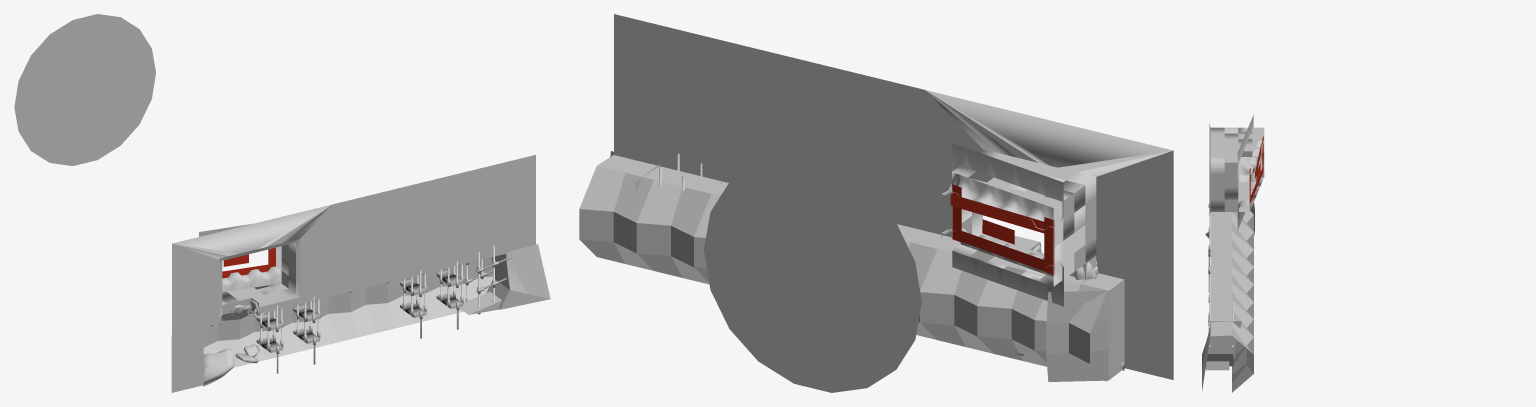
File: AO_MeshTest.FBX
3 views of the same model, side by side, from view 1: azimuth 30°, elevation 25°; view 2: azimuth 150°, elevation 25°; view 3: azimuth 270°, elevation 25° (orthographic). The views are drawn at different scales.
Visible parts, largest first — view 1: Plane01, Cylinder01, Object03, Box03, Object13, lowPoly05, Object01, rocks02, Plane04, Box02; view 2: Plane01, Cylinder01, Object03, Object13, lowPoly06, Plane04, lowPoly05; view 3: Object03, Plane01, Box03, lowPoly06, Plane04, lowPoly05.
Part boxes in pixels (x1=…): Plane01: x1=172, y1=155, x2=535, y2=335; Cylinder01: x1=14, y1=14, x2=155, y2=165; Object03: x1=203, y1=257, x2=492, y2=367; Box03: x1=486, y1=244, x2=550, y2=309; Object13: x1=171, y1=327, x2=203, y2=392; lowPoly05: x1=222, y1=266, x2=281, y2=292; Object01: x1=219, y1=239, x2=300, y2=316; rocks02: x1=203, y1=348, x2=234, y2=386; Plane04: x1=222, y1=247, x2=275, y2=278; Box02: x1=459, y1=291, x2=501, y2=314; Plane01: x1=614, y1=14, x2=1173, y2=291; Cylinder01: x1=704, y1=159, x2=921, y2=392; Object03: x1=579, y1=155, x2=1123, y2=381; Object13: x1=1046, y1=279, x2=1173, y2=381; lowPoly06: x1=941, y1=143, x2=1063, y2=230; Plane04: x1=950, y1=184, x2=1054, y2=274; lowPoly05: x1=941, y1=228, x2=1063, y2=306; Object03: x1=1210, y1=211, x2=1253, y2=392; Plane01: x1=1210, y1=127, x2=1264, y2=211; Box03: x1=1202, y1=321, x2=1241, y2=390; lowPoly06: x1=1237, y1=115, x2=1263, y2=182; Plane04: x1=1249, y1=136, x2=1263, y2=203; lowPoly05: x1=1237, y1=164, x2=1263, y2=230.
Size of the model in its own units: 11856 by 9048 by 7437.
